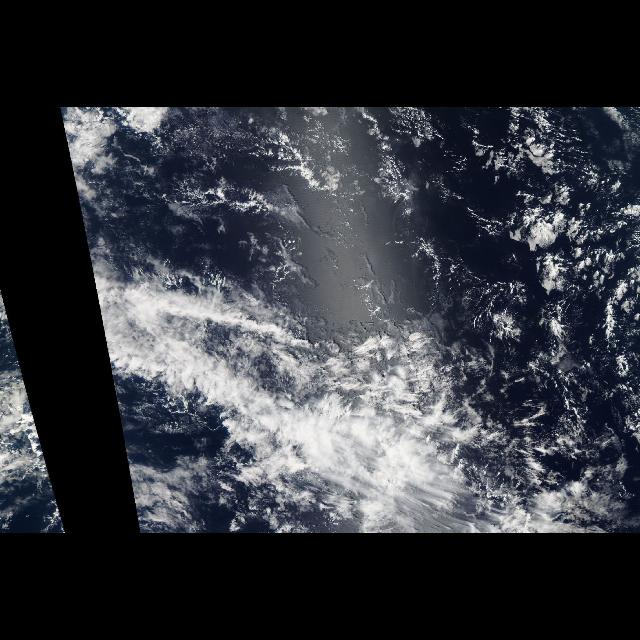Flower: (452, 114, 640, 380)
